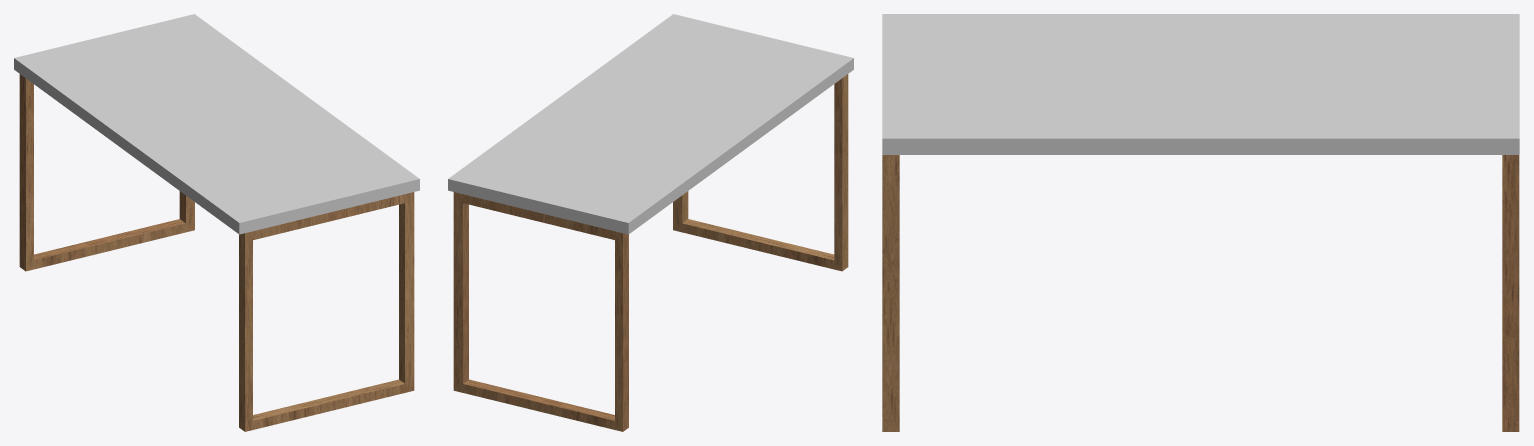
Rendered from minimalist_desk__escritorio_minimalista.glb.
The picture shows the model from 3 angles, left to right: view 1: azimuth 30°, elevation 25°; view 2: azimuth 150°, elevation 25°; view 3: azimuth 270°, elevation 25°; orthographic projection. The views are drawn at different scales.
Visible parts, largest first — view 1: Cube.001, Plane.003; view 2: Cube.001, Plane.003; view 3: Cube.001, Plane.003.
Part boxes in pixels (x1=…): Cube.001: x1=14, y1=14, x2=419, y2=234; Plane.003: x1=19, y1=74, x2=414, y2=431; Cube.001: x1=448, y1=14, x2=853, y2=234; Plane.003: x1=453, y1=74, x2=848, y2=431; Cube.001: x1=882, y1=14, x2=1519, y2=154; Plane.003: x1=882, y1=155, x2=1519, y2=431.
Bounding box in the file's own units: 1.89 × 2.11 × 4.09.
2 materials, 1 textured.
